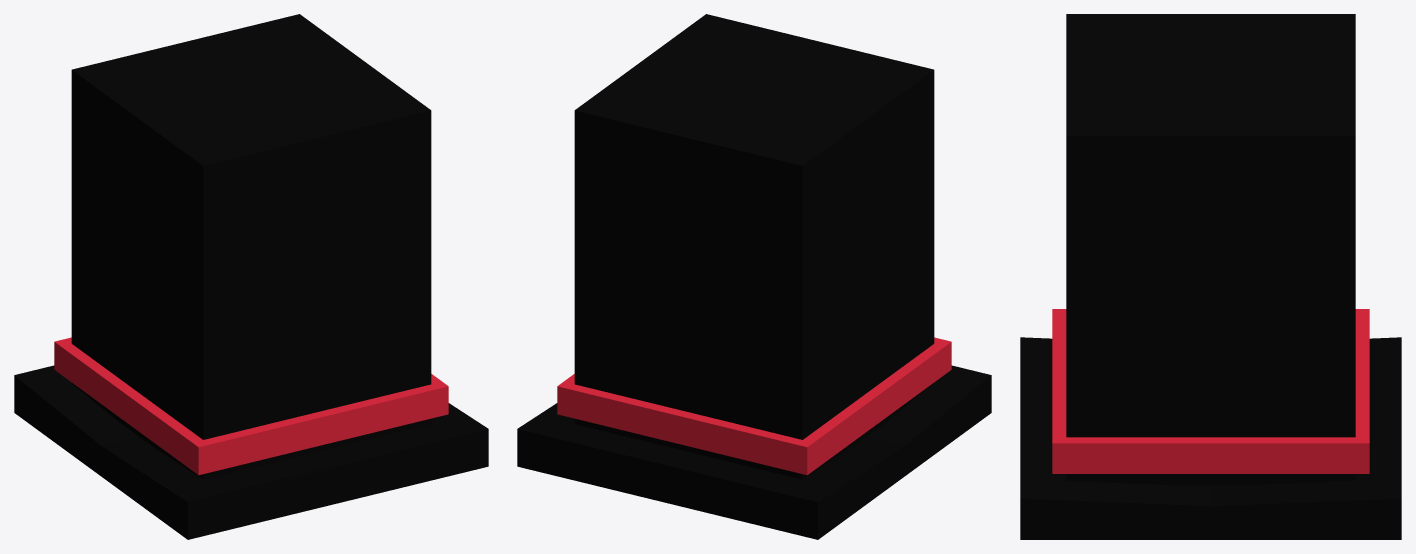
File: Tophat.fbx
The picture shows the model from 3 angles, left to right: view 1: azimuth 30°, elevation 25°; view 2: azimuth 150°, elevation 25°; view 3: azimuth 270°, elevation 25°; orthographic projection. The views are drawn at different scales.
Visible parts, largest first — view 1: Cube; view 2: Cube; view 3: Cube.
Part boxes in pixels (x1,y1,x2,y2): Cube: (14, 14, 488, 539); Cube: (517, 14, 991, 539); Cube: (1020, 14, 1401, 539).
Size of the model in its own units: 264 by 293 by 264.
